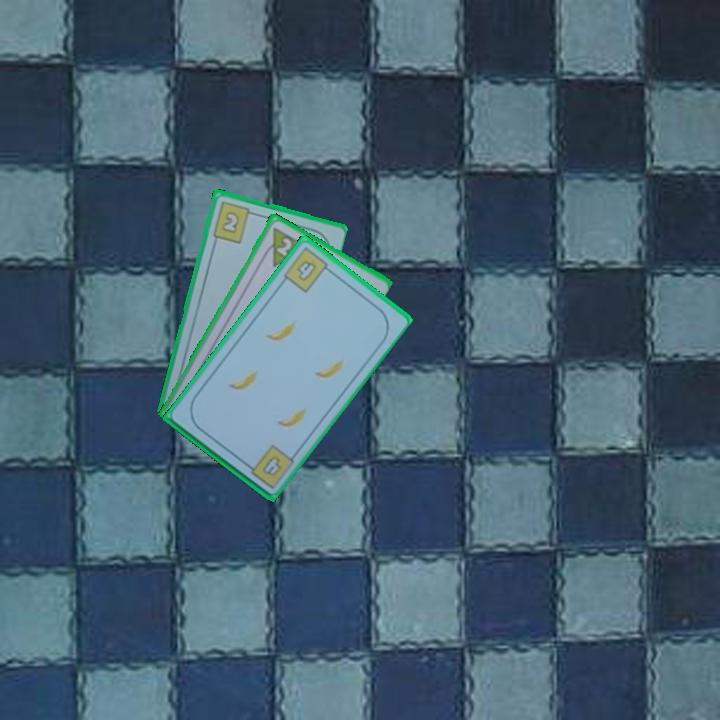2b: (209, 197, 258, 245)
2p: (273, 233, 295, 259)
4b: (280, 243, 335, 296), (258, 452, 284, 479)
